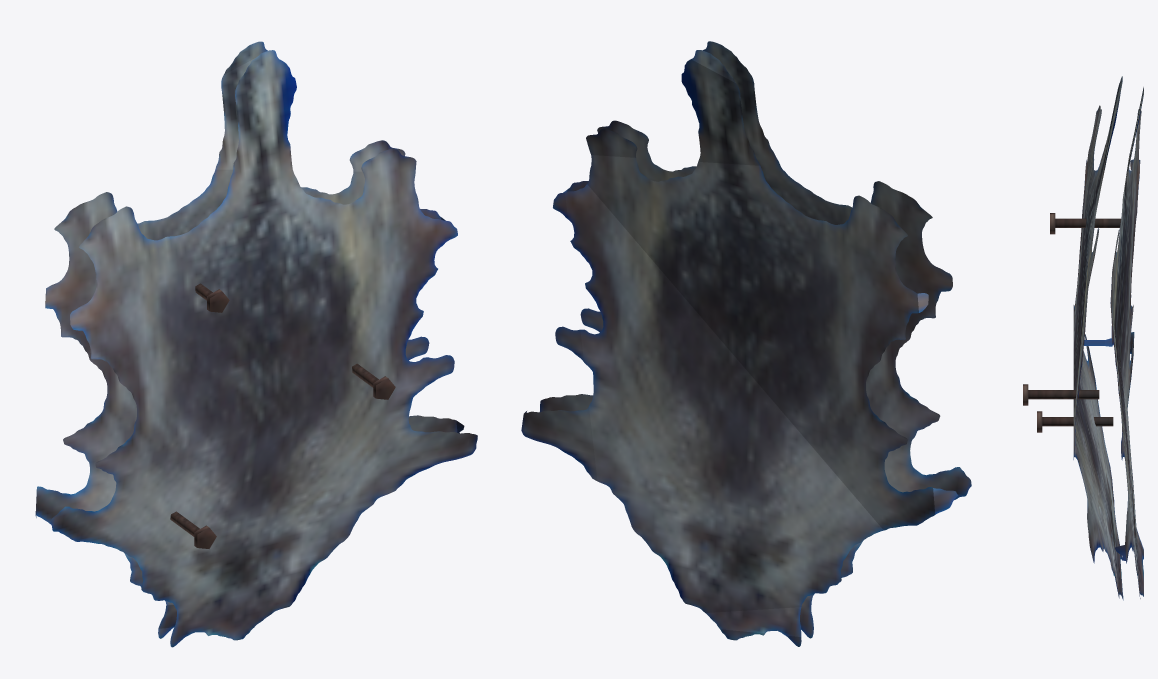
File: porcupine.FBX
The picture shows the model from 3 angles, left to right: view 1: azimuth 30°, elevation 25°; view 2: azimuth 150°, elevation 25°; view 3: azimuth 270°, elevation 25°; orthographic projection. The views are drawn at different scales.
Parts seen in each view (by area): view 1: porcupine; view 2: porcupine; view 3: porcupine.
Part boxes in pixels (x1,y1,x2,y2): porcupine: [35, 41, 477, 647]; porcupine: [521, 41, 971, 646]; porcupine: [1023, 76, 1143, 600].
Bounding box in the file's own units: 41.47 × 51.42 × 10.27.
